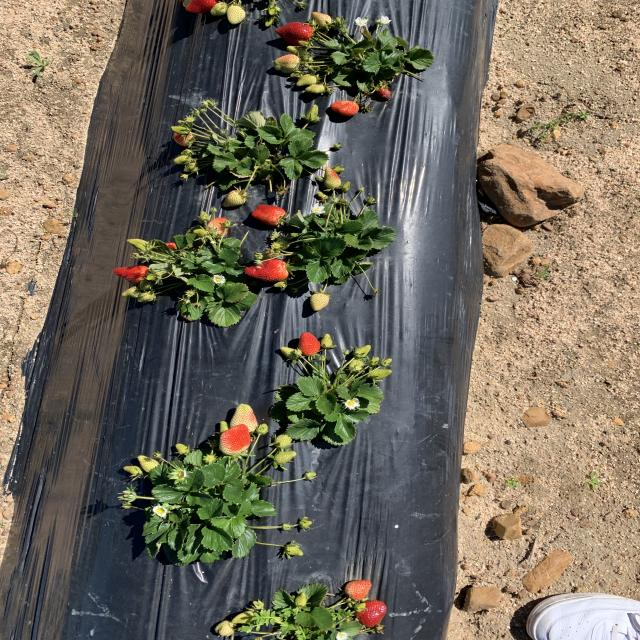unripe: (244, 259, 294, 281), (274, 21, 316, 47), (354, 599, 388, 627), (252, 202, 290, 227), (109, 265, 154, 284), (298, 330, 324, 357), (181, 0, 220, 14)
